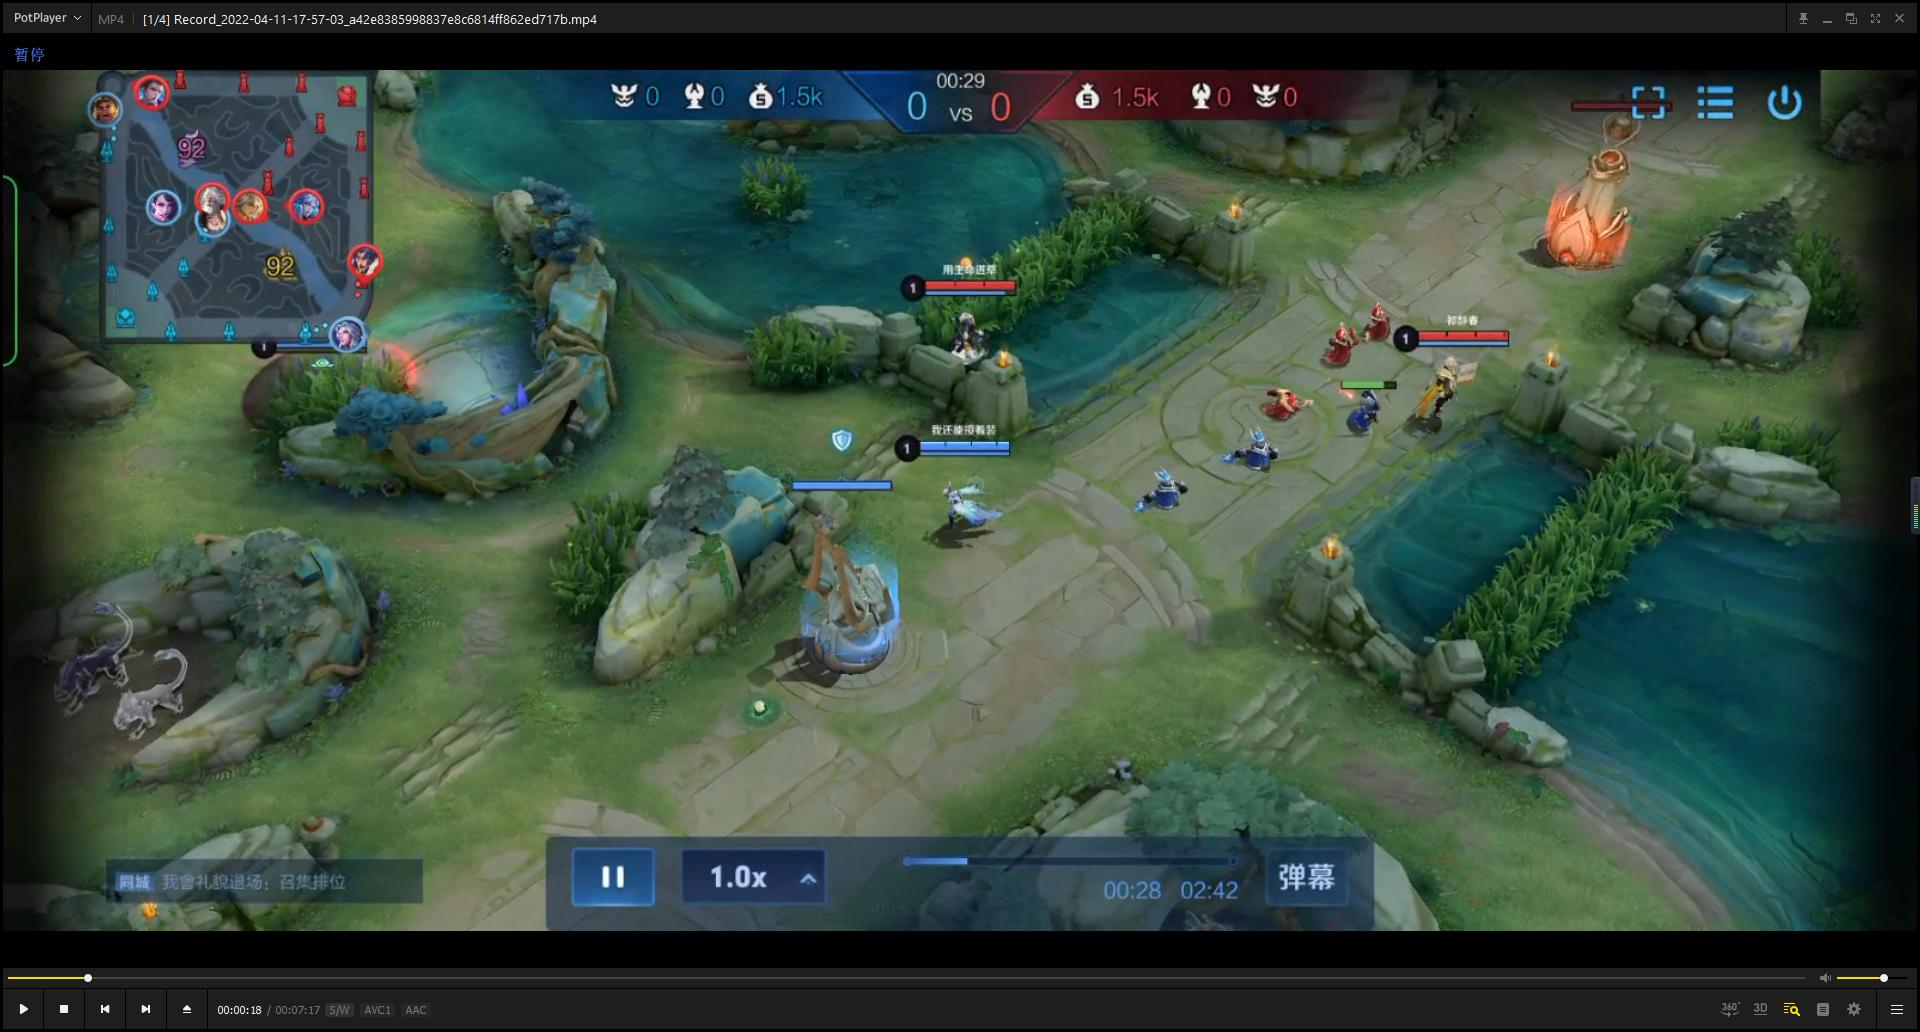Hero: (1408, 353, 1492, 445), (923, 472, 1005, 554), (933, 304, 992, 377)
Solider: (1125, 450, 1205, 538), (1210, 427, 1297, 505), (1324, 377, 1404, 454), (1306, 314, 1381, 386), (1240, 370, 1301, 433), (1353, 289, 1409, 344)
Tower: (748, 468, 949, 663), (1529, 78, 1660, 286)
Wolf: (51, 585, 145, 724), (116, 637, 199, 749)
